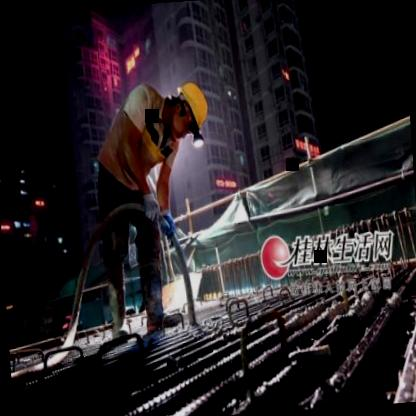helmet: (167, 80, 212, 142)
